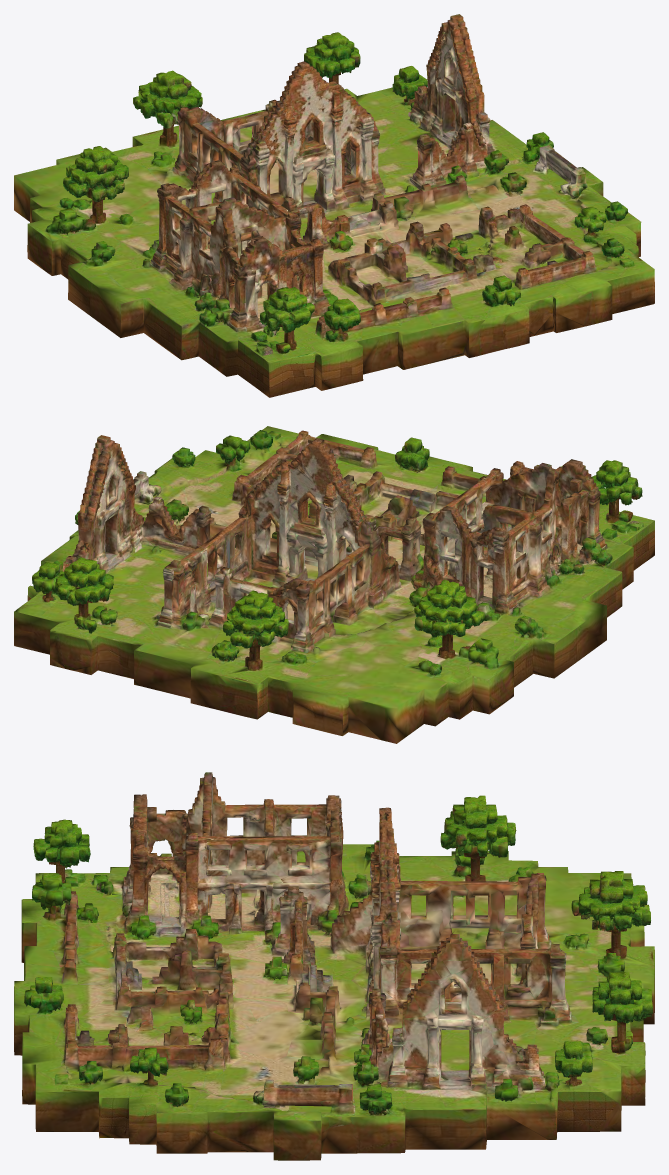
The model's file is wichayen.ar.glb.
3 renders of one model, top to bottom at view 1: azimuth 30°, elevation 25°; view 2: azimuth 150°, elevation 25°; view 3: azimuth 270°, elevation 25°, orthographic. The views are drawn at different scales.
Size of the model in its own units: 0.4 by 0.1408 by 0.3922.
Materials: 1 (1 with a texture image).
